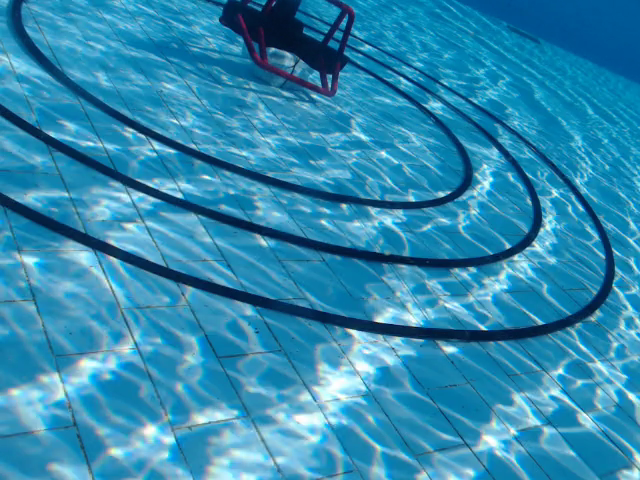submarine: (215, 1, 355, 99)
